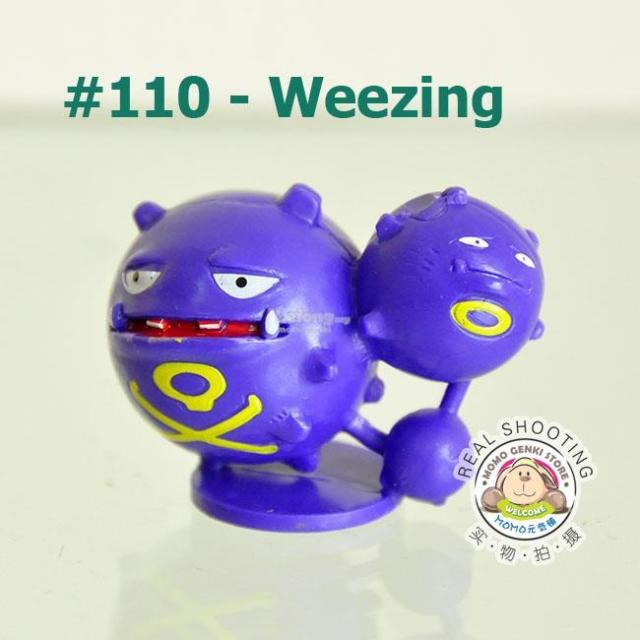Weezing: (111, 175, 540, 501)
